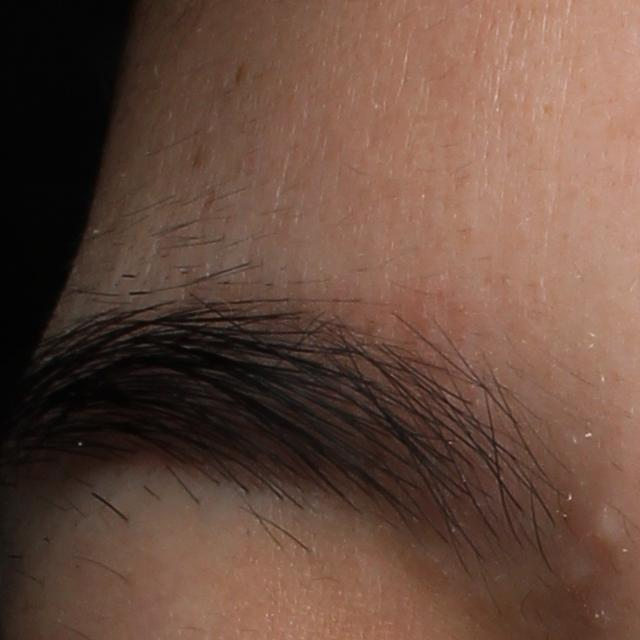comedo: (588, 507, 625, 547)
